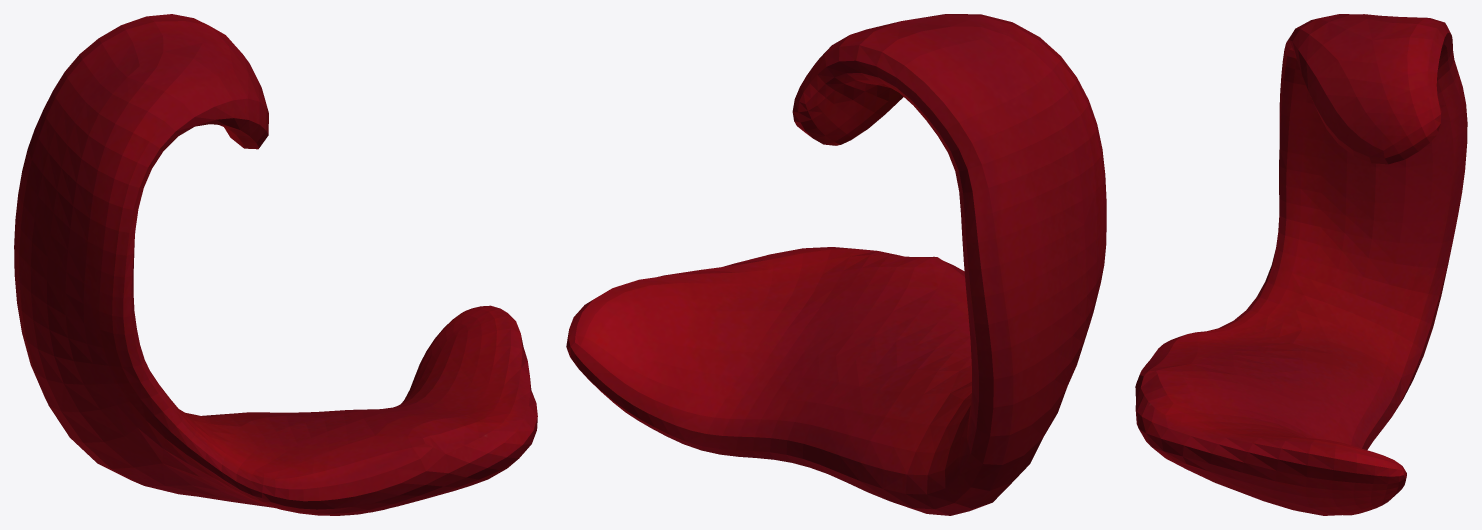
The model's file is spleen_LP.glb.
3 renders of one model, left to right at view 1: azimuth 30°, elevation 25°; view 2: azimuth 150°, elevation 25°; view 3: azimuth 270°, elevation 25°, orthographic. The views are drawn at different scales.
Visible parts, largest first — view 1: spleen_LP; view 2: spleen_LP; view 3: spleen_LP.
Boxes of the visible parts, x1,y1,x2,y2 form: spleen_LP: [14, 14, 537, 515]; spleen_LP: [566, 14, 1106, 515]; spleen_LP: [1135, 14, 1467, 515].
Size of the model in its own units: 0.00349 by 0.00338 by 0.00253.
1 material, 1 textured.
